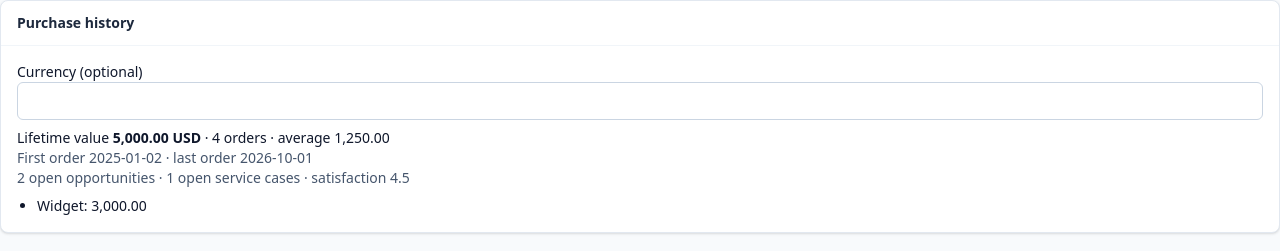
it: AccountSummaryCard › shows history and passes a valid currency only
Later steps or results of the test are not shown.
Expected: the text "Lifetime value 5,000.00 USD · 4 orders · average 1,250.00" is shown, [17,128,390,147]
Expected: the list item "Widget: 3,000.00" is shown, [37,196,147,215]
Type "e" into the field named "Summary currency" at (640, 101), box [17,82,1263,120]
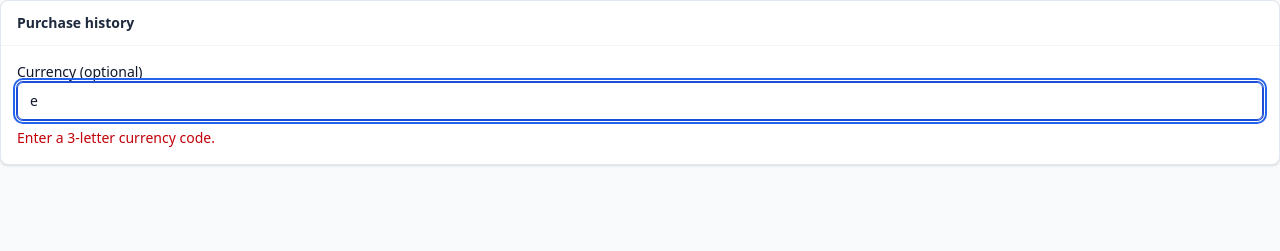
Now the text "Enter a 3-letter currency code." is shown, box [17,128,215,147]
